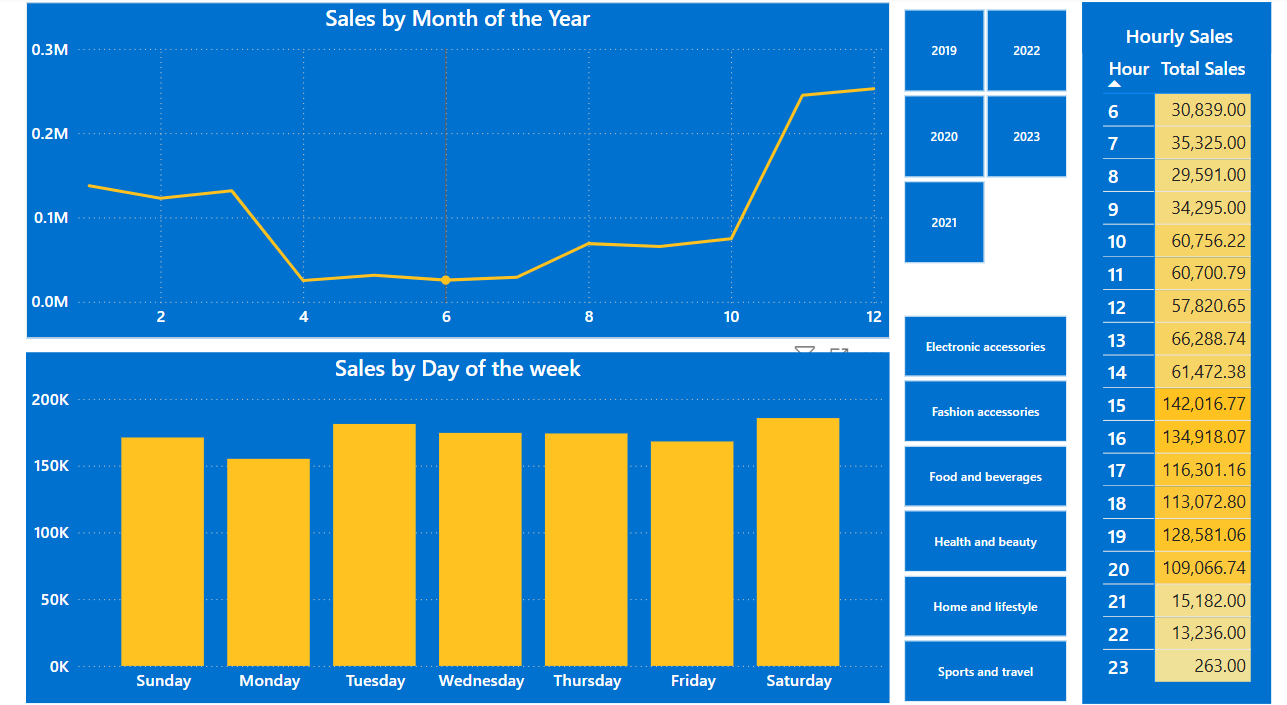

What the dashboard file says about the page in this screenshot:
{"tool":"powerbi","page":{"name":"Time Trends","canvas":[1280,720],"ordinal":1},"visuals":[{"type":"lineChart","title":"Sales by Month of the Year","fields":{"Category":["Walmart.Month"],"Y":["Sum(Walmart.total)"]},"box":[34.7,5.6,844.4,329.2],"z":0},{"type":"columnChart","title":"Sales by Day of the week","fields":{"Y":["Sum(Walmart.total)"],"Category":["Walmart.Day Name"]},"box":[34.7,348.6,844.4,343.1],"z":1000},{"type":"pivotTable","title":"Hourly Sales","fields":{"Rows":["Walmart.Hour"],"Values":["Sum(Walmart.total)"]},"box":[1068.1,5.6,184.7,686.1],"z":2000},{"type":"slicer","fields":{"Values":["Walmart.Year"]},"box":[866.7,5.6,209.7,262.5],"z":3000},{"type":"slicer","fields":{"Values":["Walmart.category"]},"box":[866.7,305.6,209.7,391.7],"z":4000}]}

Visuals, with their boxes in screenshot pixels (x1, y1, x2, y2), scaled from the page's 1280x720 canvas onto the 1287x705 screenshot:
"Sales by Month of the Year" lineChart: l=35, t=5, r=884, b=328
"Sales by Day of the week" columnChart: l=35, t=341, r=884, b=677
"Hourly Sales" pivotTable: l=1074, t=5, r=1260, b=677
slicer - Walmart.Year: l=871, t=5, r=1082, b=263
slicer - Walmart.category: l=871, t=299, r=1082, b=683
